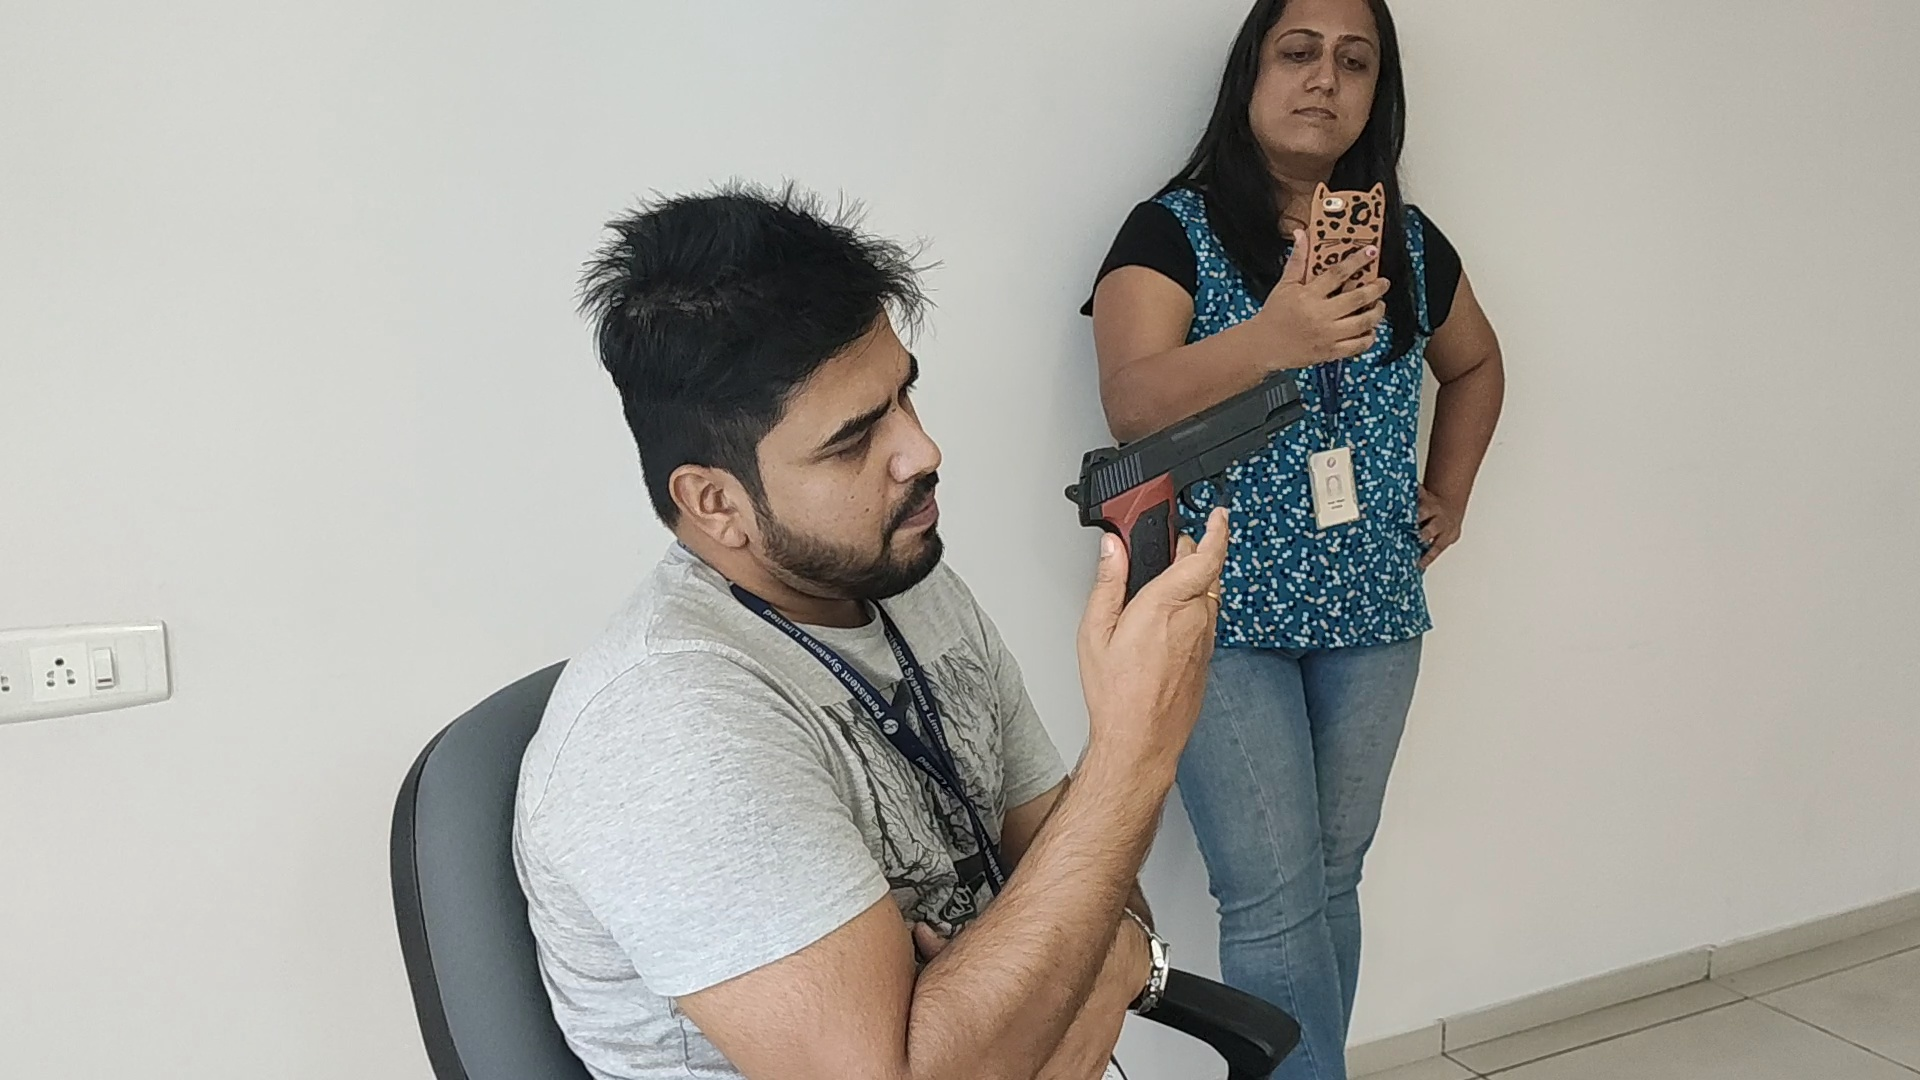gun: (1065, 369, 1304, 506)
